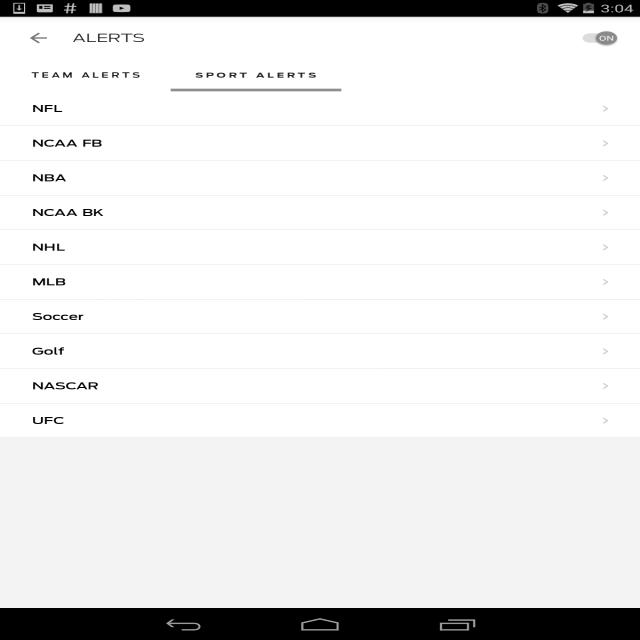ImageButton: (9, 17, 68, 59)
ImageView: (596, 102, 615, 114), (596, 138, 615, 150), (596, 172, 615, 184), (596, 206, 615, 218), (596, 242, 615, 254), (596, 276, 615, 288), (596, 310, 615, 322), (596, 346, 615, 358), (596, 380, 615, 392), (596, 414, 615, 426)
Switch: (570, 29, 620, 47)
TextView: (72, 31, 146, 45), (195, 71, 316, 79), (31, 71, 140, 79), (32, 380, 99, 392), (32, 207, 104, 218), (32, 138, 102, 149), (32, 311, 84, 322), (32, 172, 66, 184), (32, 276, 66, 288), (32, 242, 65, 253), (32, 346, 65, 357), (32, 415, 65, 426), (32, 103, 62, 114)
